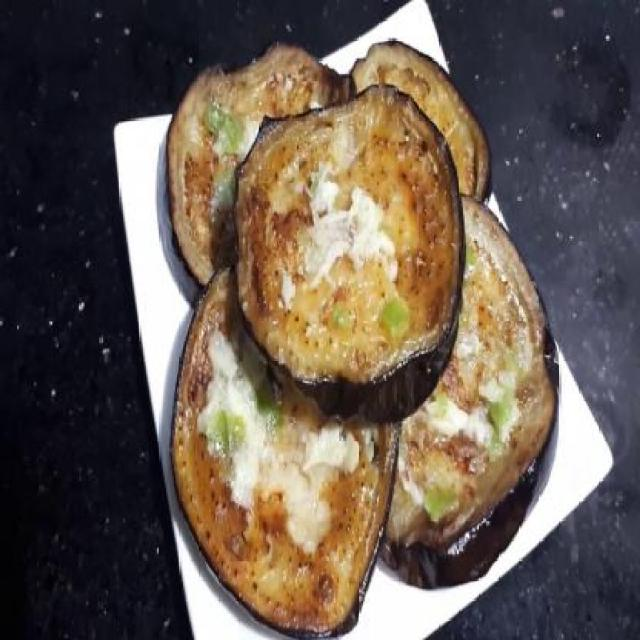eggplant: (153, 32, 562, 638)
hummus: (200, 200, 392, 548)
